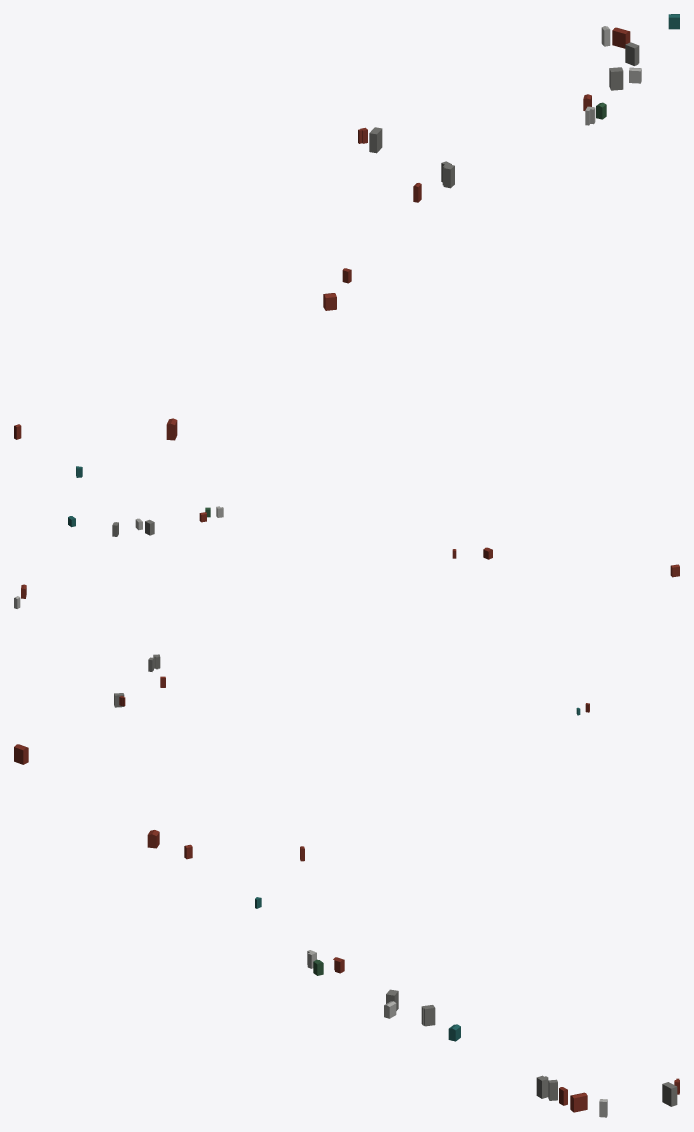
The model's file is near-15-27359-14881.ce083a8f.glb.
3 renders of one model, top to bottom at view 1: azimuth 30°, elevation 25°; view 2: azimuth 150°, elevation 25°; view 3: azimuth 270°, elevation 25°, orthographic. The views are drawn at different scales.
Bounding box in the file's own units: 1079 × 295 × 856.
